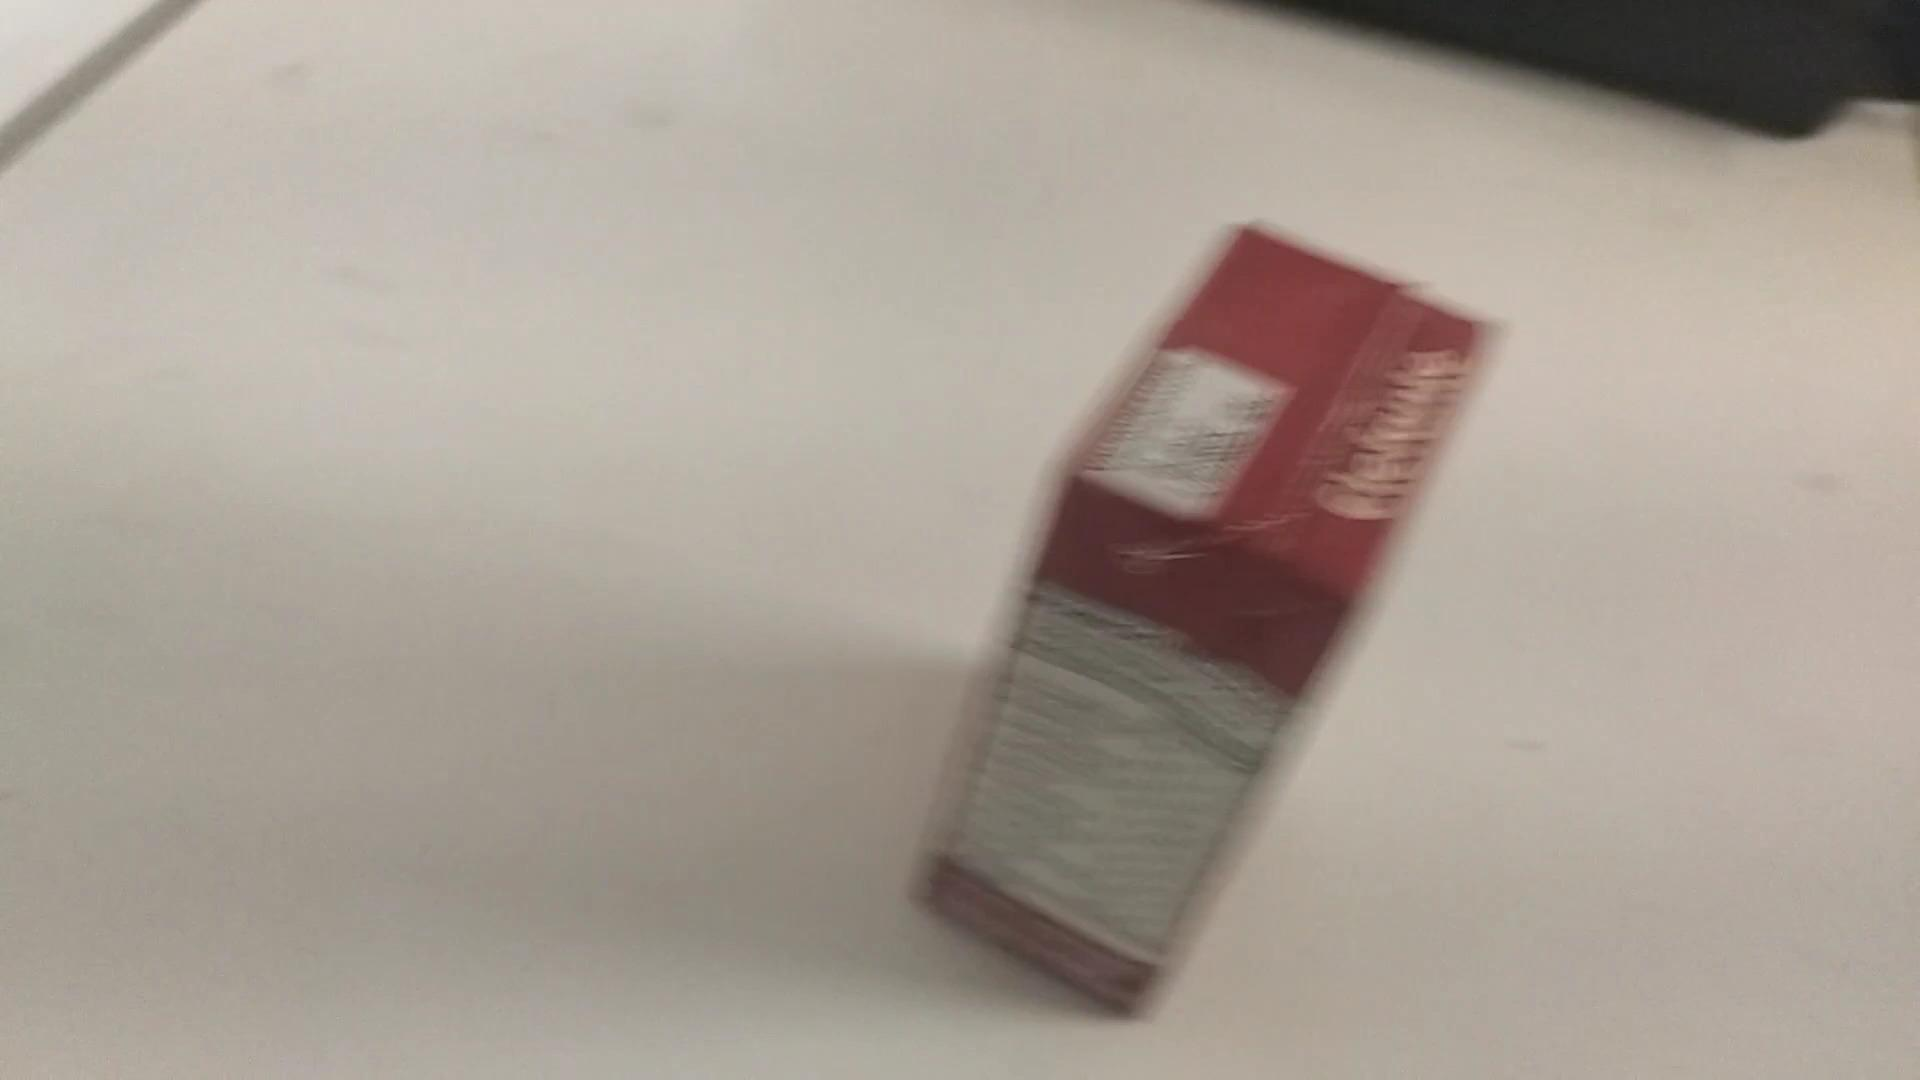tomate: (943, 253, 1457, 1002)
